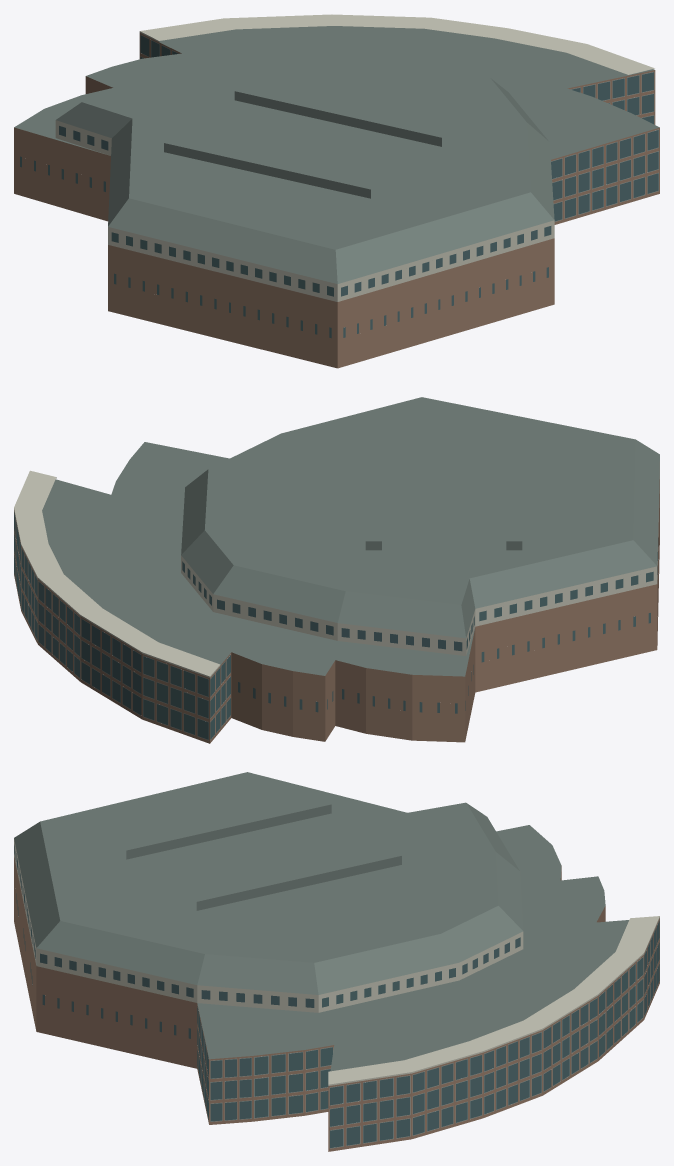
The model's file is gas-south-arena-near.glb.
3 views of the same model, one above another, from view 1: azimuth 30°, elevation 25°; view 2: azimuth 150°, elevation 25°; view 3: azimuth 270°, elevation 25° (orthographic).
Parts seen in each view (by area): view 1: gas-south-arena-0-roof, gas-south-arena-0-brick, gas-south-arena-0-stone, gas-south-arena-0-glass, gas-south-arena-0-metal; view 2: gas-south-arena-0-roof, gas-south-arena-0-brick, gas-south-arena-0-glass, gas-south-arena-0-stone, gas-south-arena-0-metal; view 3: gas-south-arena-0-roof, gas-south-arena-0-glass, gas-south-arena-0-brick, gas-south-arena-0-stone, gas-south-arena-0-metal.
Part boxes in pixels (box(x1,y1,x2,y2)): gas-south-arena-0-roof: box(14, 26, 659, 283); gas-south-arena-0-brick: box(14, 33, 659, 368); gas-south-arena-0-stone: box(55, 14, 654, 301); gas-south-arena-0-glass: box(20, 35, 658, 338); gas-south-arena-0-metal: box(140, 34, 658, 221); gas-south-arena-0-roof: box(42, 397, 659, 676); gas-south-arena-0-brick: box(14, 479, 659, 743); gas-south-arena-0-glass: box(14, 512, 658, 739); gas-south-arena-0-stone: box(14, 462, 659, 677); gas-south-arena-0-metal: box(14, 516, 230, 740); gas-south-arena-0-roof: box(14, 772, 628, 1071); gas-south-arena-0-glass: box(14, 845, 659, 1147); gas-south-arena-0-brick: box(14, 857, 659, 1151); gas-south-arena-0-stone: box(14, 839, 659, 1085); gas-south-arena-0-metal: box(197, 920, 659, 1148).
Size of the model in its own units: 168 by 31.5 by 161.
